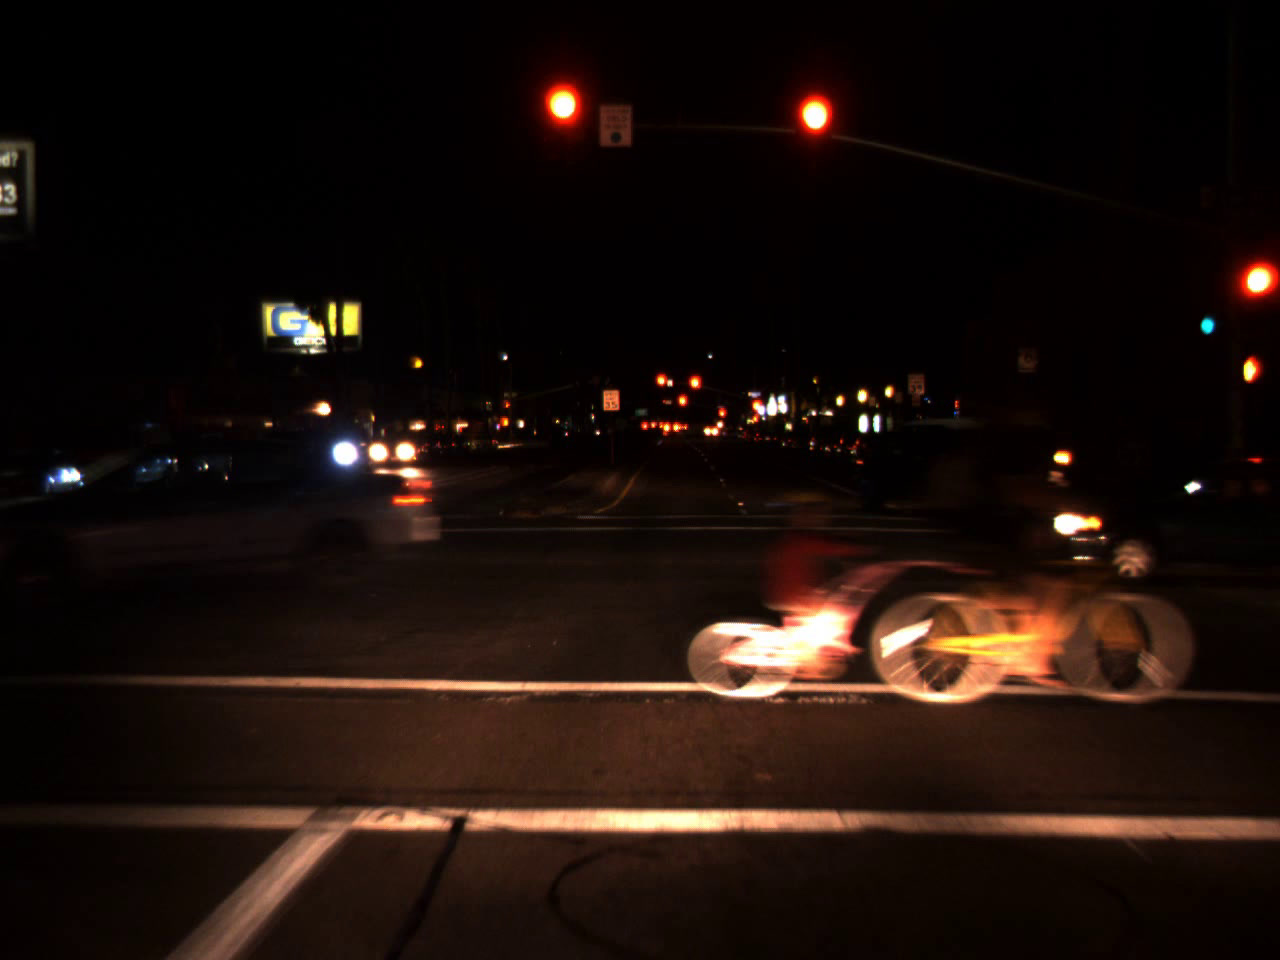stop: (543, 84, 582, 162), (1234, 261, 1277, 328), (796, 95, 833, 173), (686, 373, 703, 405), (654, 372, 670, 401), (747, 399, 765, 419), (677, 393, 689, 419), (501, 398, 513, 419), (717, 406, 726, 427)
